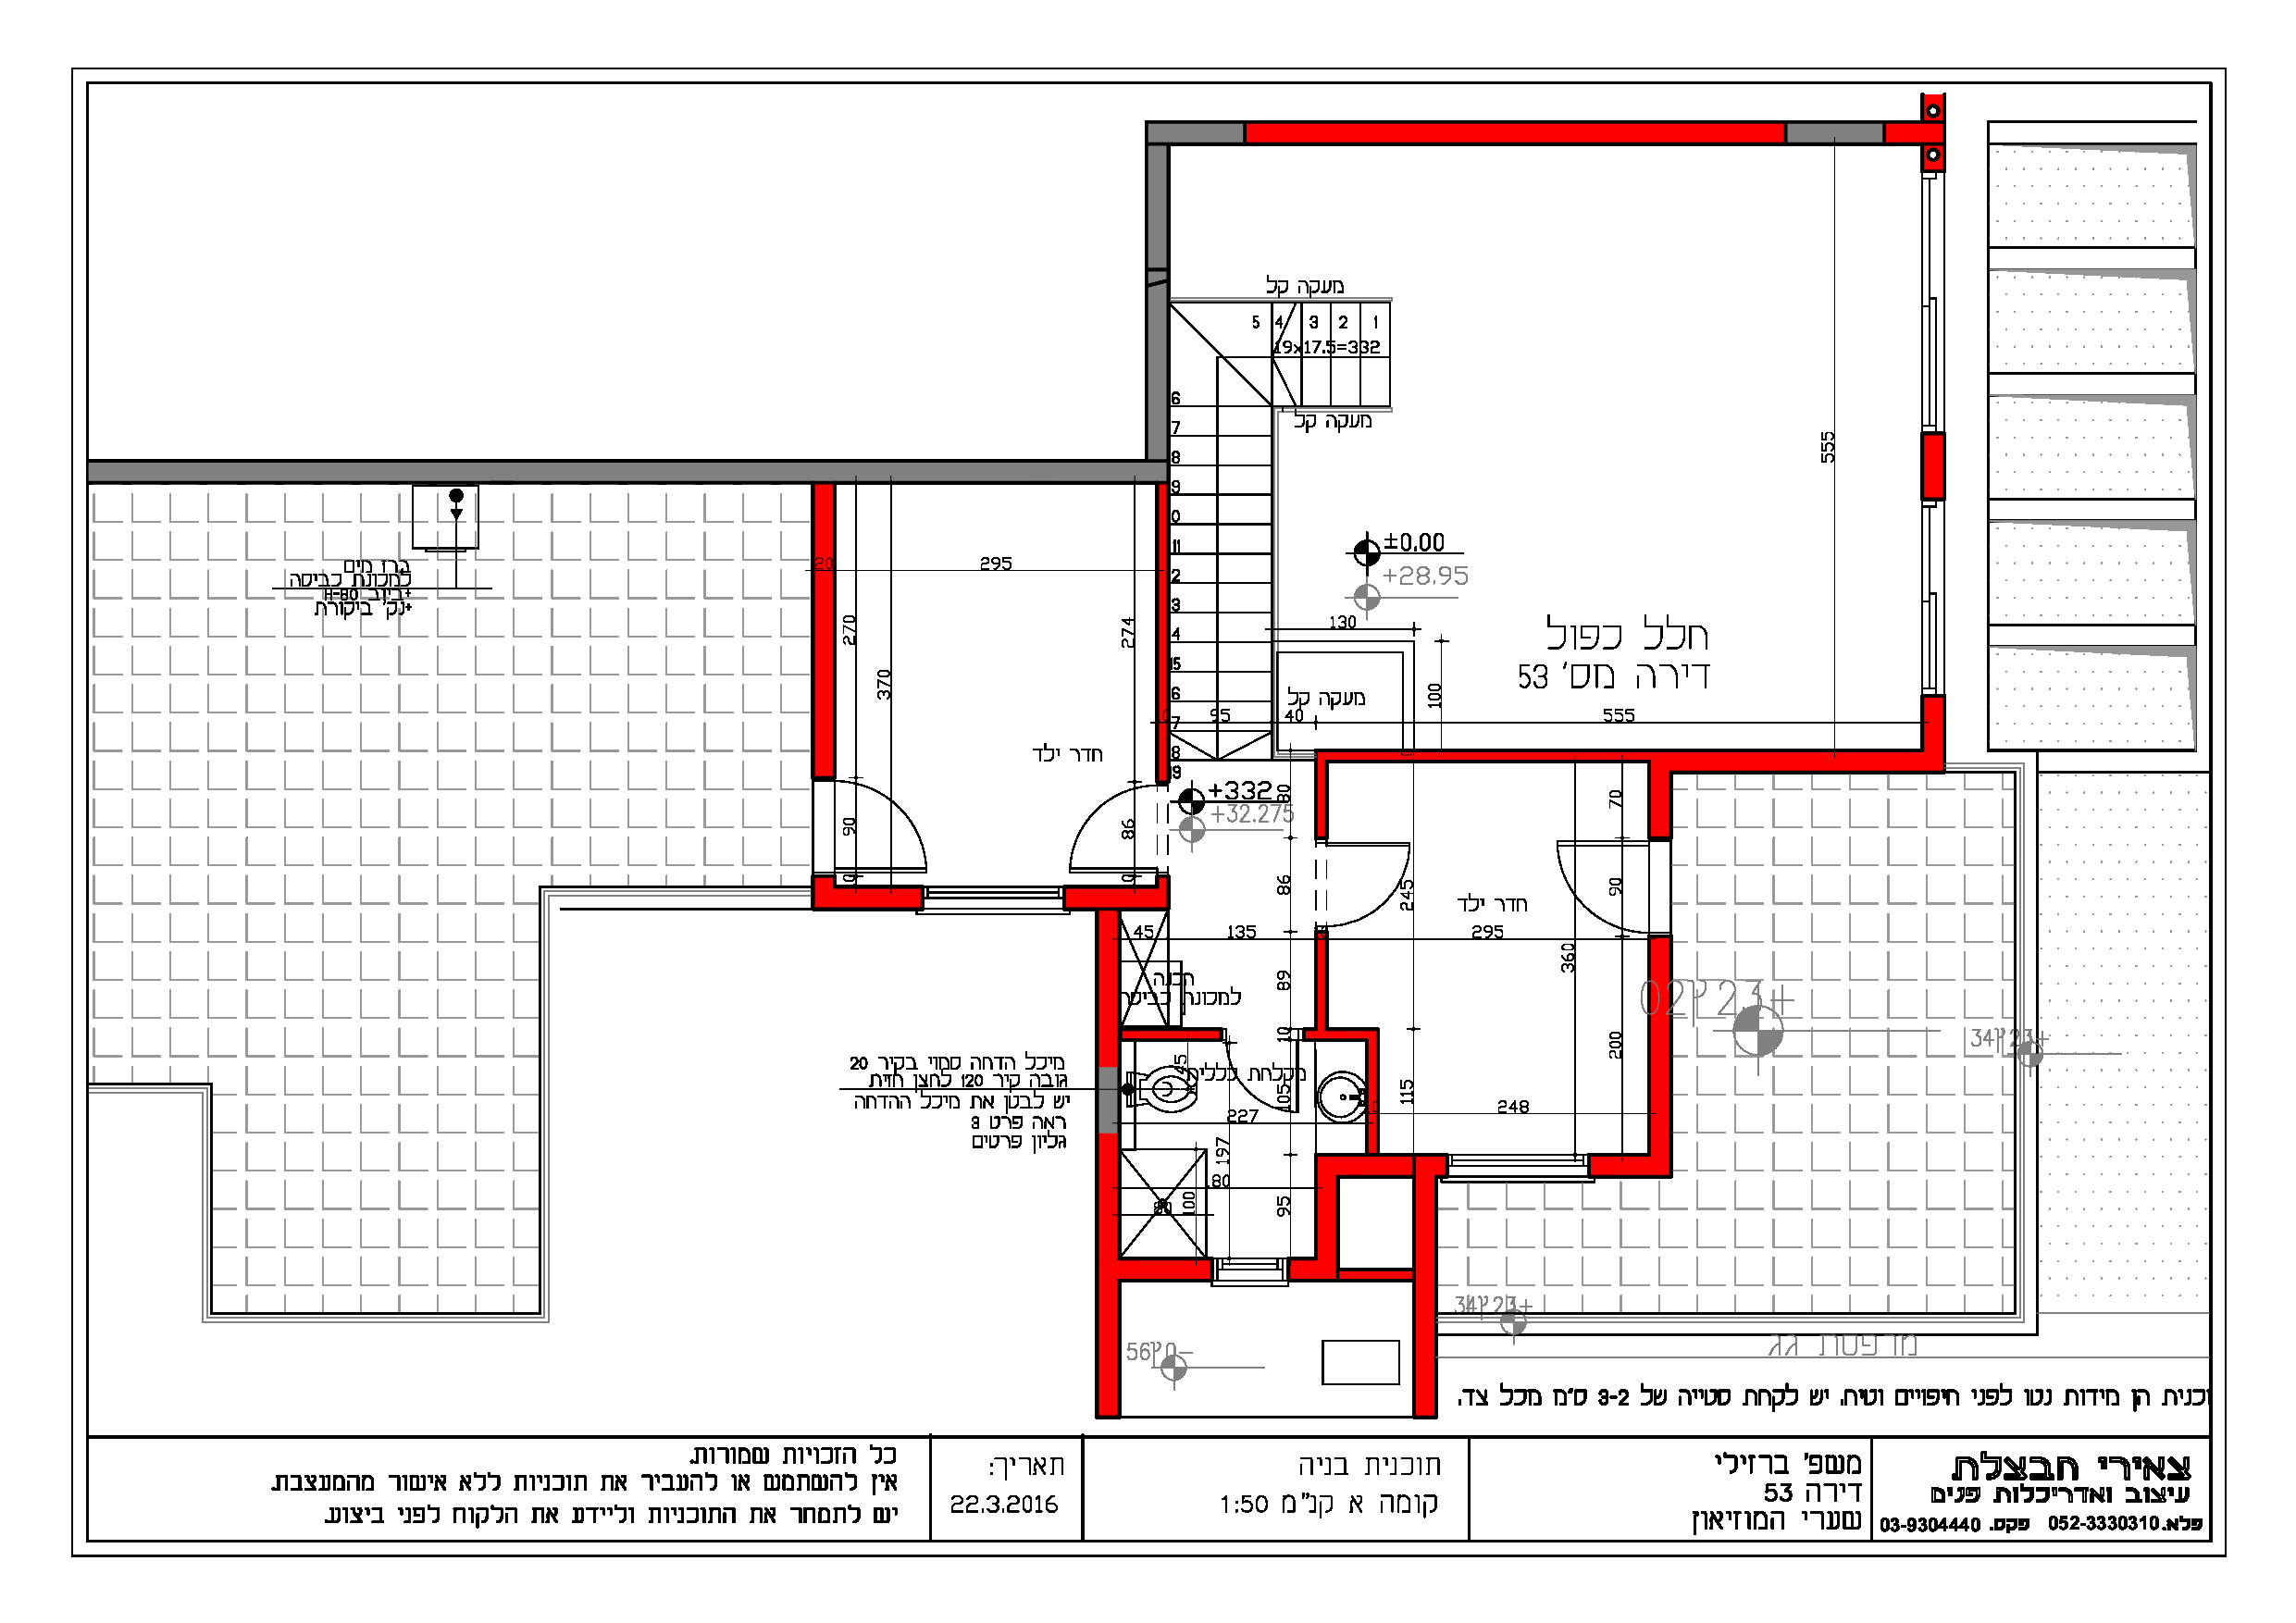door: (1049, 776, 1151, 884), (1544, 831, 1643, 940), (841, 771, 936, 884), (1333, 831, 1414, 936)
rd: (39, 1425, 2240, 1576)
wall: (105, 464, 1135, 480), (1261, 123, 1783, 144), (1672, 745, 1953, 782), (1100, 1135, 1114, 1414), (815, 576, 831, 775), (1419, 1165, 1432, 1405), (1151, 297, 1166, 458), (1098, 913, 1114, 1068), (815, 887, 913, 906), (1318, 1161, 1333, 1279), (1147, 123, 1247, 141), (1423, 752, 1746, 757), (1151, 148, 1165, 269), (1072, 889, 1161, 906), (1159, 488, 1165, 780), (1321, 1159, 1405, 1173), (1368, 1031, 1377, 1152), (1653, 755, 1665, 834), (1318, 943, 1325, 1035), (1332, 750, 1398, 759), (1318, 754, 1325, 831), (1309, 1031, 1377, 1038)
window: (1917, 165, 1953, 441), (1432, 1136, 1604, 1187), (1915, 494, 1953, 699), (919, 875, 1065, 919), (1203, 1249, 1295, 1298)
